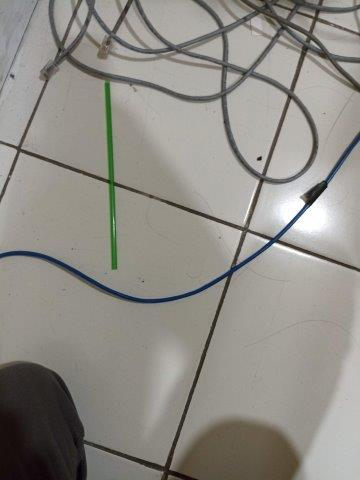sedotan: (105, 82, 117, 269)
